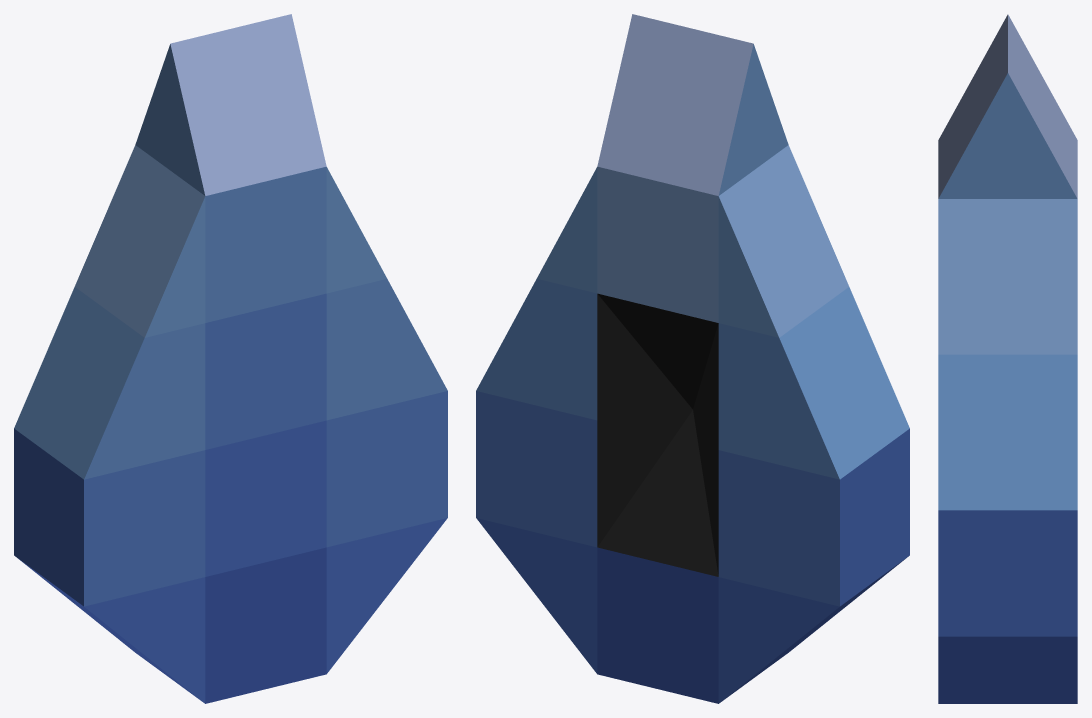
File: amulet_mundane.obj
3 renders of one model, left to right at view 1: azimuth 30°, elevation 25°; view 2: azimuth 150°, elevation 25°; view 3: azimuth 270°, elevation 25°, orthographic.
Parts seen in each view (by area): view 1: PENDANT_DECO_MUNDANE_Cube.002; view 2: PENDANT_DECO_MUNDANE_Cube.002; view 3: PENDANT_DECO_MUNDANE_Cube.002.
Part boxes in pixels (x1,y1,x2,y2): PENDANT_DECO_MUNDANE_Cube.002: [14, 14, 447, 703]; PENDANT_DECO_MUNDANE_Cube.002: [476, 14, 909, 703]; PENDANT_DECO_MUNDANE_Cube.002: [938, 14, 1077, 703].
Bounding box in the file's own units: 0.1875 × 0.3125 × 0.0625.
